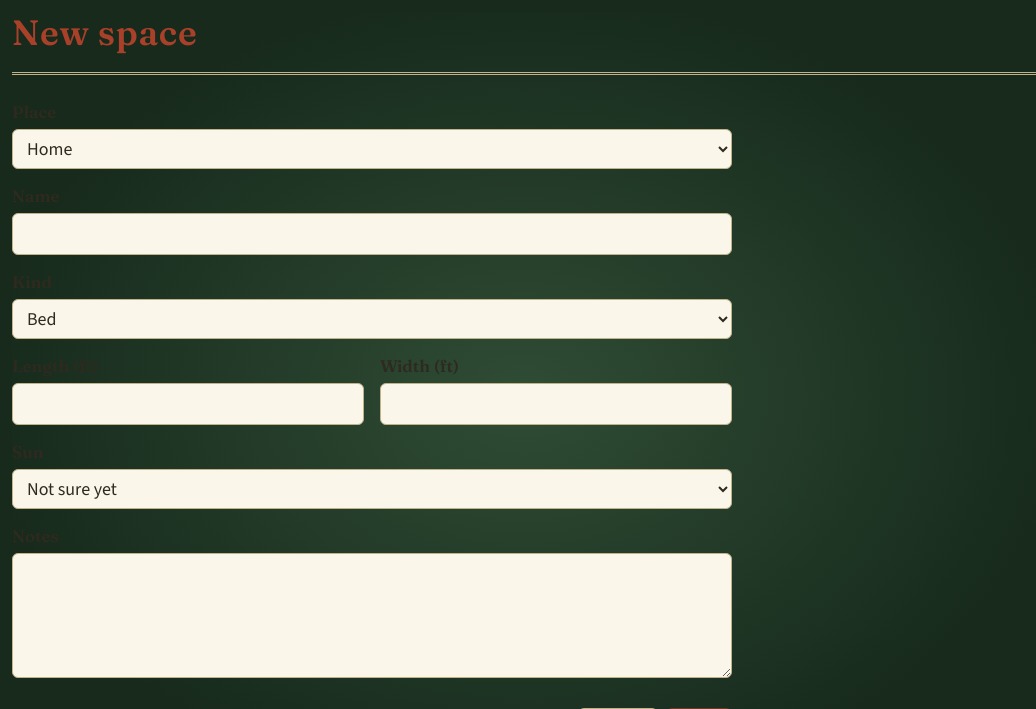
Scenario: space form › only the fields for the chosen kind show
This screenshot has width=1036, height=709.
Select "Container" in the dropdown labelled "Kind": (372, 319) [12,299,732,339]
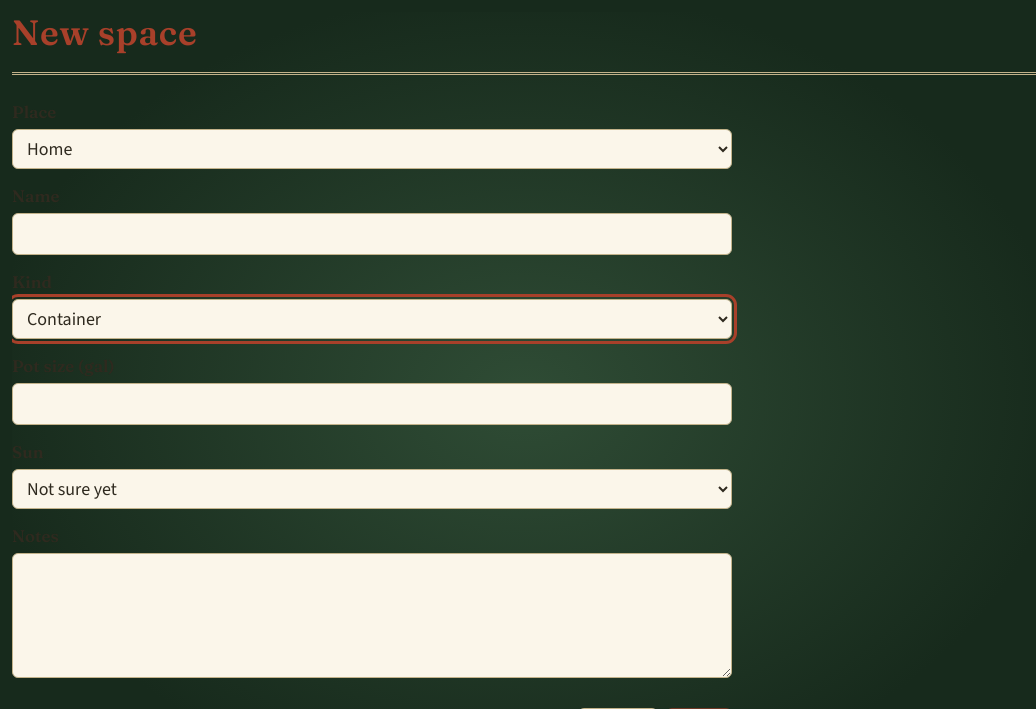
Expected: the label labelled "Length (ft)" is not shown
Expected: the field labelled "Pot size (gal)" is shown, [12,383,732,425]
Select "Microgreen rack" in the dropdown labelled "Kind": (372, 319) [12,299,732,339]
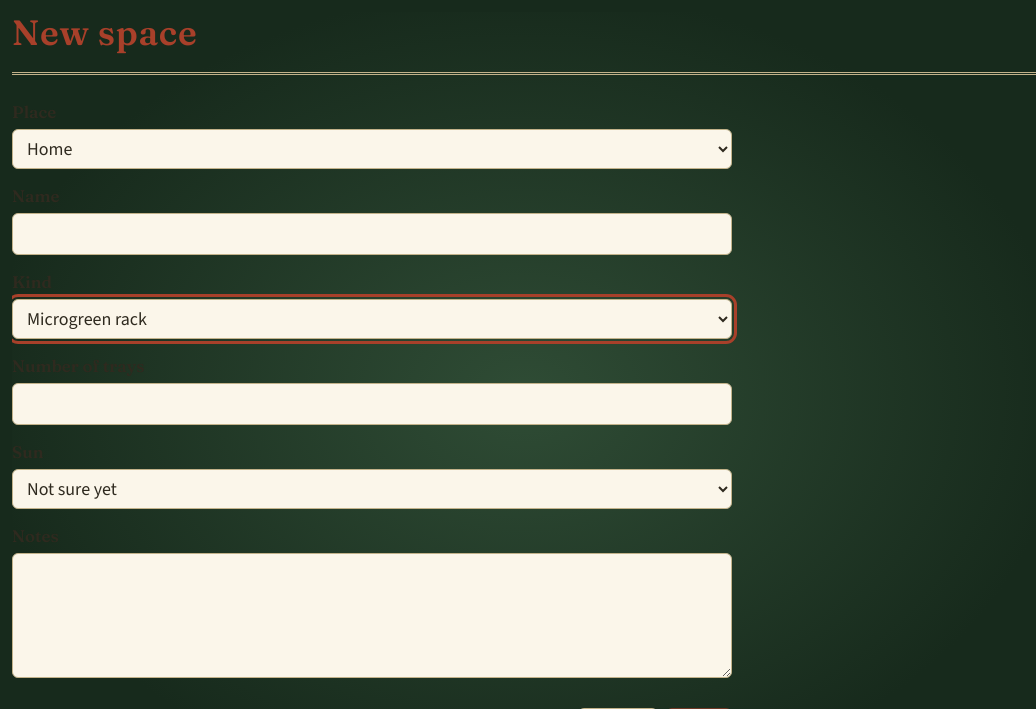
Expected: the field labelled "Number of trays" is shown, [12,383,732,425]
Select "Greenhouse" in the dropdown labelled "Kind": (372, 319) [12,299,732,339]
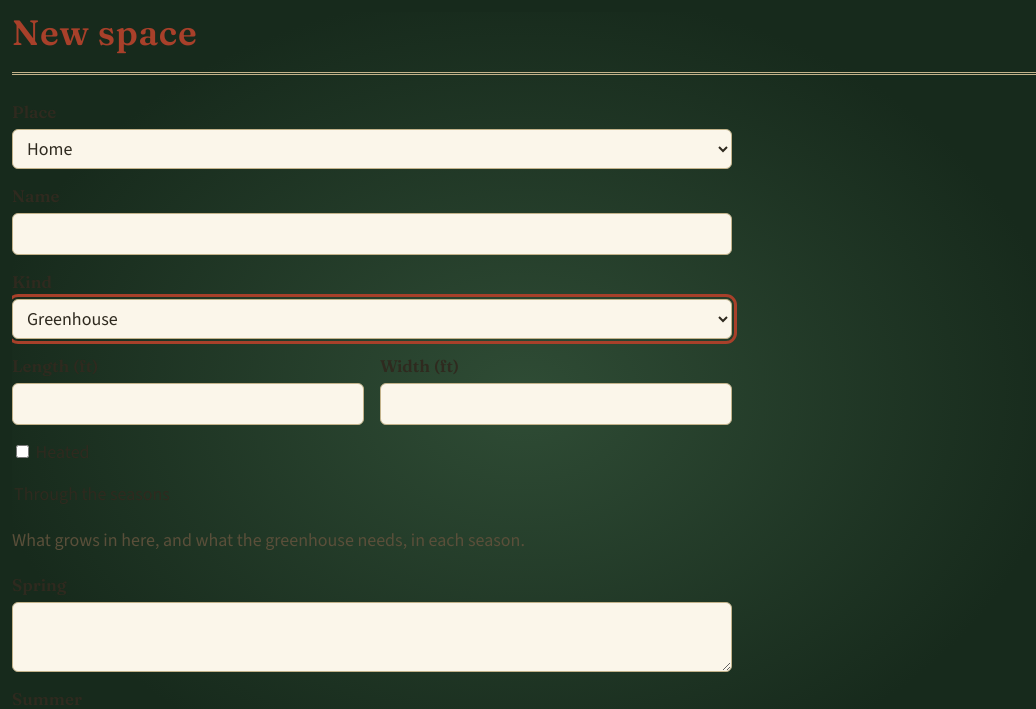
Expected: the field labelled "Length (ft)" is shown, [12,383,364,425]
Expected: the checkbox labelled "Heated" is shown, [16,445,29,458]
